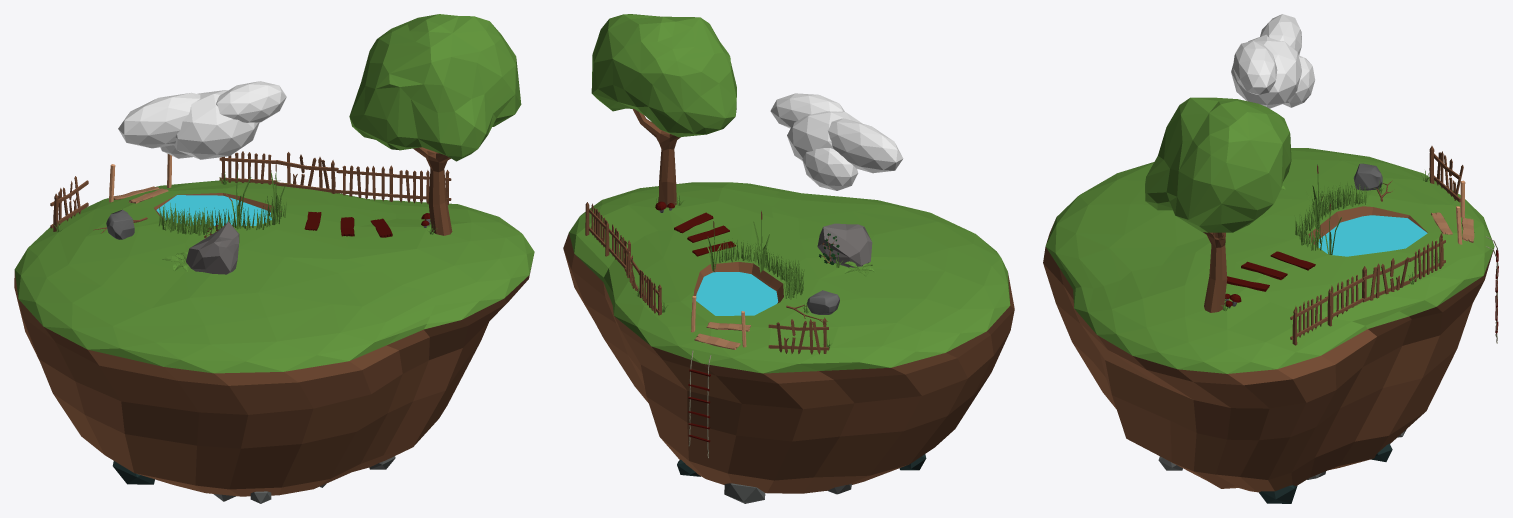
The model's file is FlyingIsland.fbx.
3 renders of one model, left to right at view 1: azimuth 30°, elevation 25°; view 2: azimuth 150°, elevation 25°; view 3: azimuth 270°, elevation 25°, orthographic. The views are drawn at different scales.
Parts seen in each view (by area): view 1: FlyingIsland, Tree, Cloud_3, Cylinder, Stone_3, PT_Modular_Fence_Wood_03, PT_Modular_Fence_Wood_02, PT_Modular_Fence_Wood_01, PT_Modular_Fence_Wood_03.001, PT_Modular_Fence_Wood_01.001, PT_Generic_Rock_01_LOD0; view 2: FlyingIsland, Tree, Cloud_3, Cylinder, Stone_3, PT_Modular_Fence_Wood_03.001, PT_Generic_Rock_01_LOD0, PT_Modular_Fence_Wood_01, GroundStone.001, PT_Modular_Fence_Wood_01.001, PT_Modular_Fence_Wood_02; view 3: FlyingIsland, Tree, Cloud_3, Cylinder, PT_Modular_Fence_Wood_03, PT_Modular_Fence_Wood_03.001, PT_Modular_Fence_Wood_01.001, PT_Modular_Fence_Wood_02, PT_Modular_Fence_Wood_01, PT_Generic_Rock_01_LOD0.
Part boxes in pixels (box(x1,y1,x2,y2)): FlyingIsland: box(14, 180, 534, 496); Tree: box(349, 14, 521, 235); Cloud_3: box(118, 81, 286, 159); Cylinder: box(156, 195, 271, 225); Stone_3: box(186, 221, 239, 274); PT_Modular_Fence_Wood_03: box(276, 152, 338, 193); PT_Modular_Fence_Wood_02: box(336, 165, 394, 201); PT_Modular_Fence_Wood_01: box(219, 151, 277, 184); PT_Modular_Fence_Wood_03.001: box(50, 176, 88, 231); PT_Modular_Fence_Wood_01.001: box(393, 170, 451, 205); PT_Generic_Rock_01_LOD0: box(106, 209, 134, 239); FlyingIsland: box(563, 182, 1014, 493); Tree: box(591, 14, 736, 207); Cloud_3: box(770, 93, 903, 190); Cylinder: box(696, 272, 778, 315); Stone_3: box(817, 223, 872, 267); PT_Modular_Fence_Wood_03.001: box(768, 317, 828, 354); PT_Generic_Rock_01_LOD0: box(807, 290, 839, 314); PT_Modular_Fence_Wood_01: box(638, 270, 661, 315); GroundStone.001: box(724, 483, 765, 503); PT_Modular_Fence_Wood_01.001: box(585, 202, 607, 247); PT_Modular_Fence_Wood_02: box(605, 222, 627, 268); FlyingIsland: box(1043, 148, 1494, 492); Tree: box(1145, 97, 1291, 312); Cloud_3: box(1231, 14, 1315, 108); Cylinder: box(1318, 215, 1427, 256); PT_Modular_Fence_Wood_03: box(1362, 257, 1410, 302); PT_Modular_Fence_Wood_03.001: box(1429, 146, 1463, 202); PT_Modular_Fence_Wood_01.001: box(1290, 295, 1327, 345); PT_Modular_Fence_Wood_02: box(1325, 275, 1363, 326); PT_Modular_Fence_Wood_01: box(1409, 233, 1445, 281); PT_Generic_Rock_01_LOD0: box(1353, 163, 1382, 190).
Size of the model in its own units: 2352 by 2155 by 2032.
